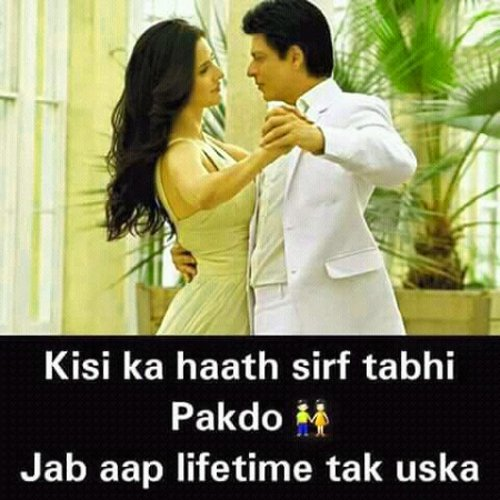noMask: (119, 14, 233, 137), (241, 3, 347, 105)
